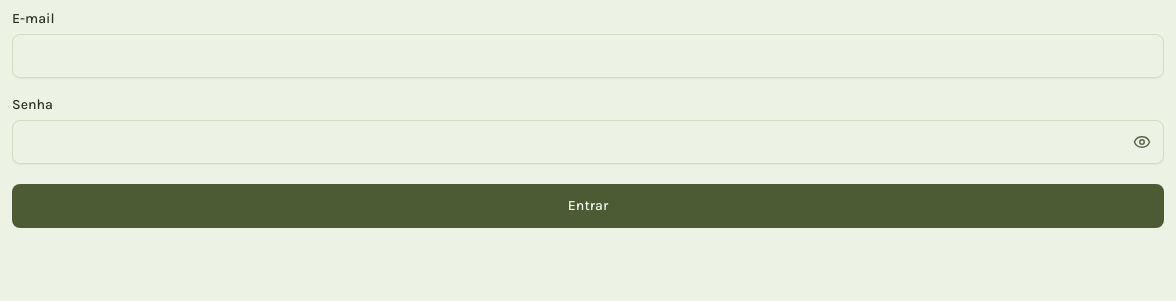
it: LoginForm › bloqueia o envio e aponta o campo quando falta e-mail ou senha
Click the button "Entrar".
click(588, 206)  # box [12,184,1164,228]
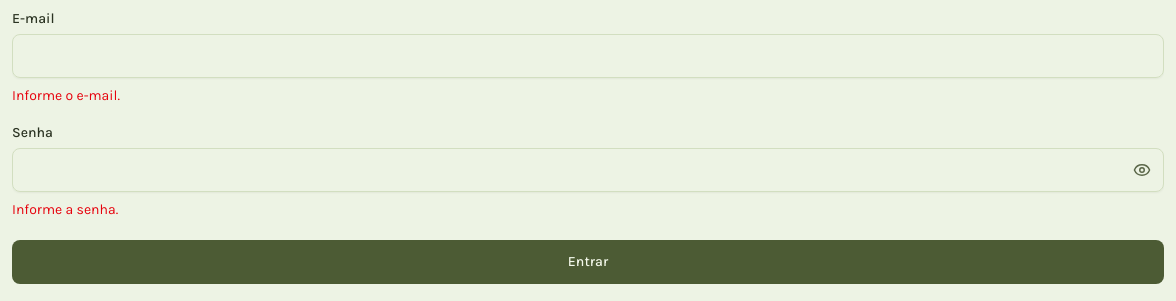
Now the text "Informe o e-mail." is shown, box [12,87,120,104]
Now the text "Informe a senha." is shown, box [12,201,118,218]
